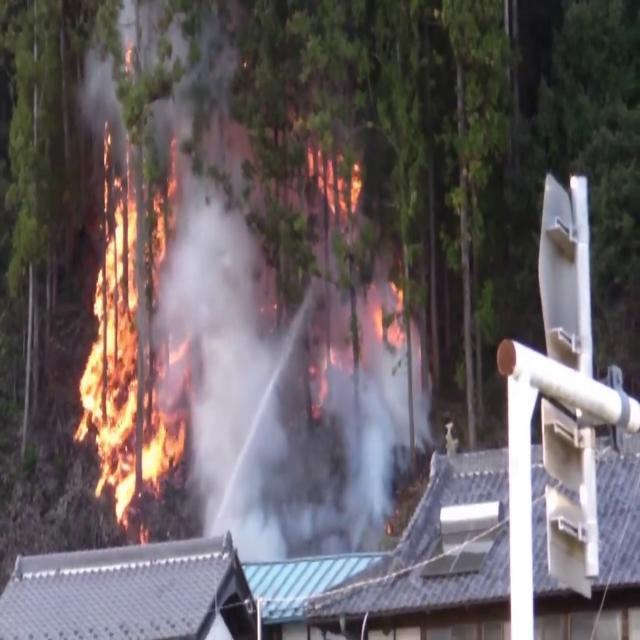Fire: (70, 155, 182, 520)
Smoke: (137, 131, 430, 569)
